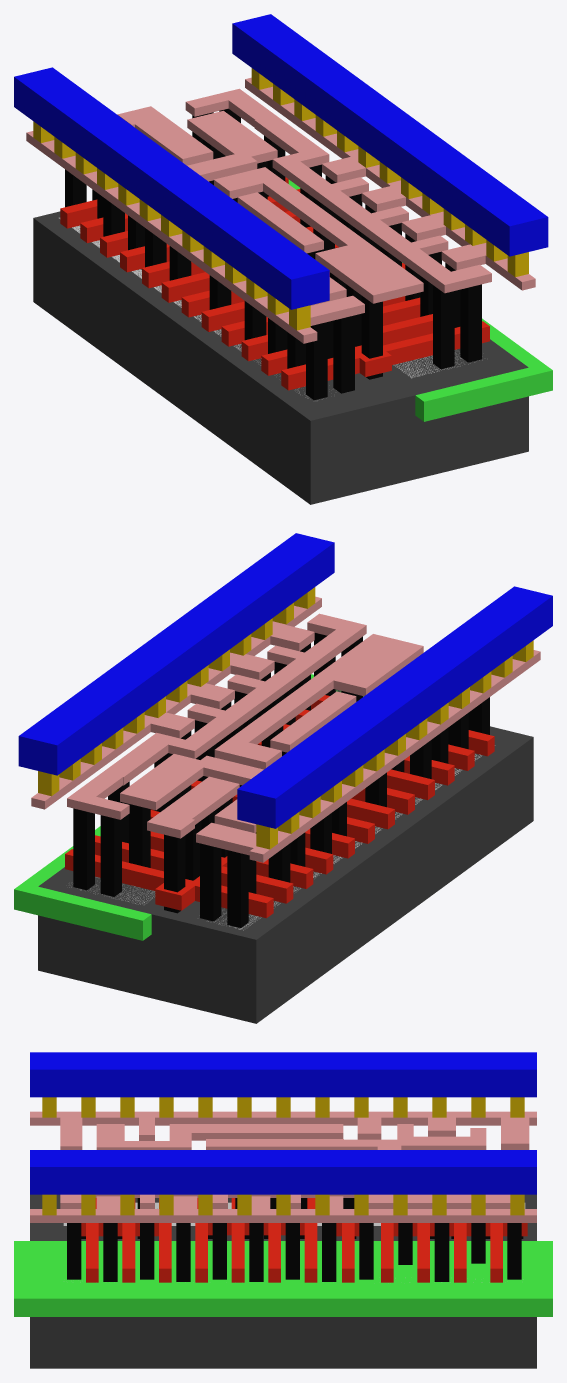
Rendered from sky130_fd_sc_hd__a21oi_4.obj.
3 renders of one model, top to bottom at view 1: azimuth 30°, elevation 25°; view 2: azimuth 150°, elevation 25°; view 3: azimuth 270°, elevation 25°, orthographic. The views are drawn at different scales.
Visible parts, largest first — view 1: subs, metal1, li, licon, poly, mcon, nwell; view 2: subs, metal1, li, licon, poly, mcon, nwell; view 3: metal1, nwell, subs, li, licon, poly, mcon.
Part boxes in pixels (x1=…): subs: x1=33, y1=211, x2=528, y2=504; metal1: x1=14, y1=14, x2=548, y2=309; li: x1=26, y1=77, x2=535, y2=343; licon: x1=65, y1=108, x2=481, y2=400; poly: x1=60, y1=177, x2=489, y2=390; mcon: x1=33, y1=68, x2=528, y2=330; nwell: x1=288, y1=179, x2=552, y2=421; subs: x1=38, y1=689, x2=533, y2=1023; metal1: x1=18, y1=533, x2=552, y2=828; li: x1=31, y1=596, x2=540, y2=862; licon: x1=73, y1=633, x2=489, y2=927; poly: x1=65, y1=695, x2=494, y2=918; mcon: x1=38, y1=587, x2=533, y2=849; nwell: x1=14, y1=674, x2=363, y2=940; metal1: x1=30, y1=1052, x2=536, y2=1194; nwell: x1=14, y1=1241, x2=552, y2=1316; subs: x1=30, y1=1194, x2=536, y2=1368; li: x1=30, y1=1111, x2=536, y2=1222; licon: x1=67, y1=1198, x2=523, y2=1281; poly: x1=81, y1=1198, x2=527, y2=1282; mcon: x1=42, y1=1097, x2=524, y2=1215.
Bounding box in the file's own units: 3.2 × 2.74 × 6.36.
